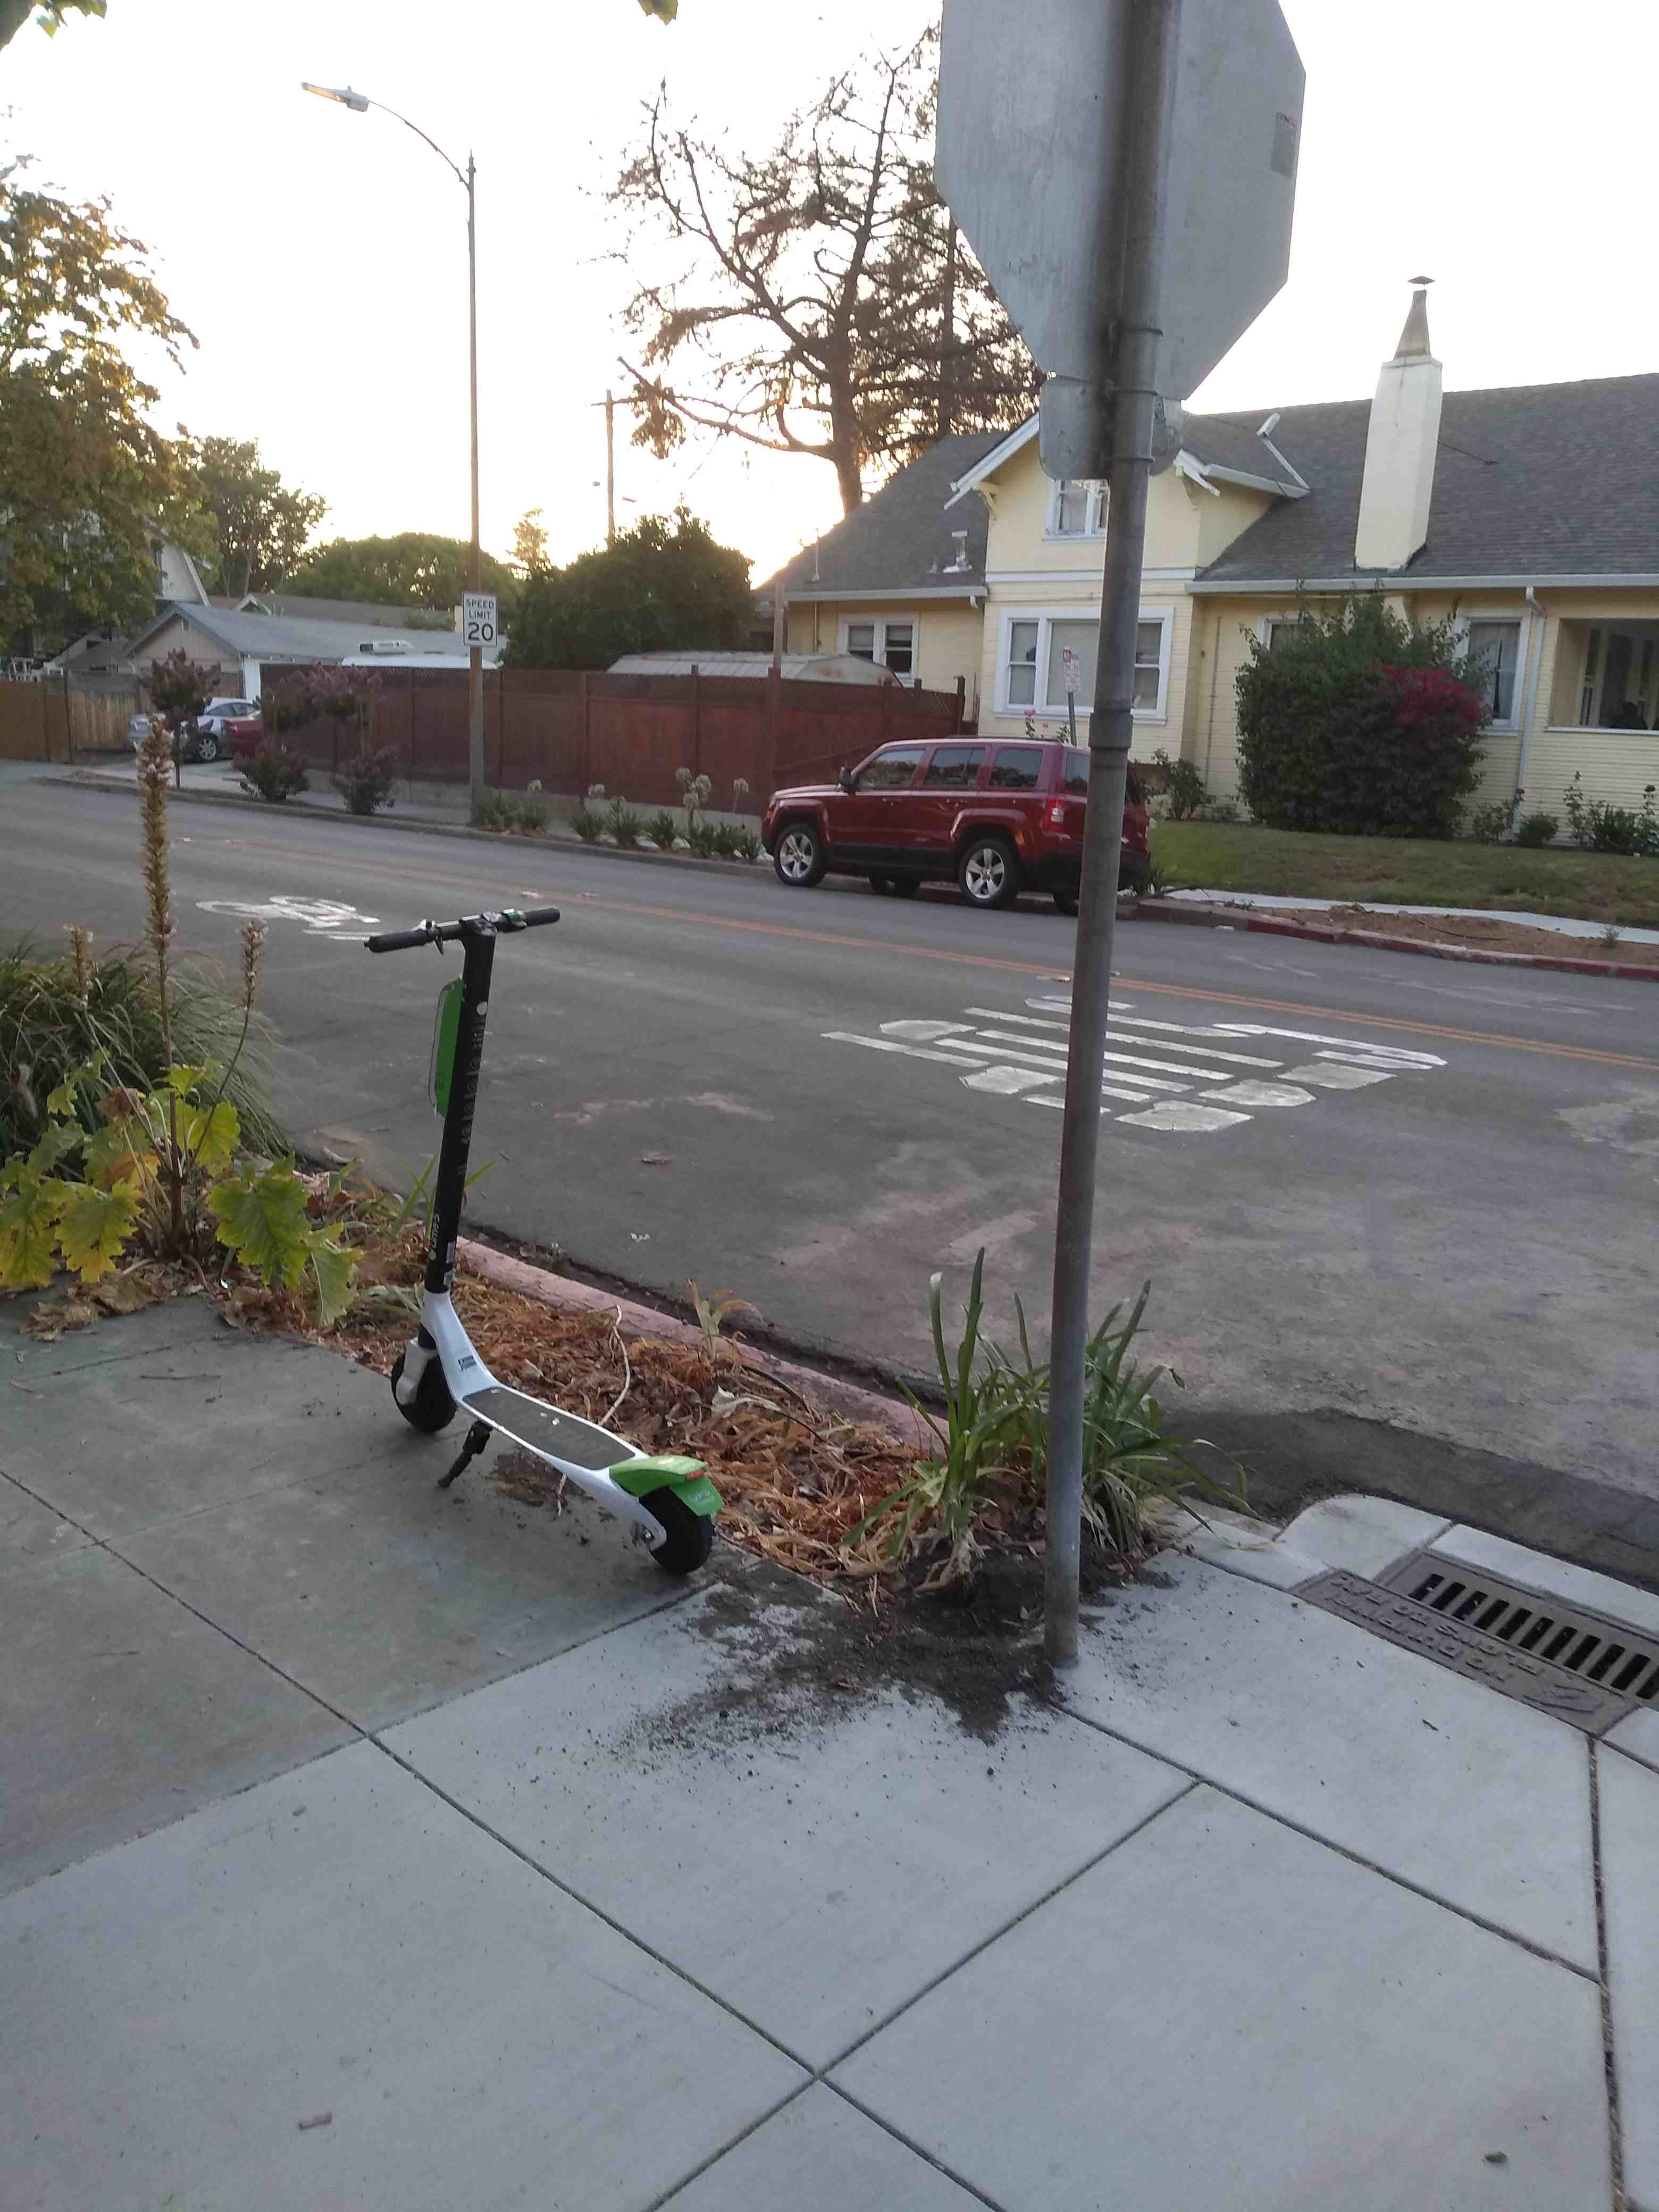scooter: (369, 869, 713, 1615)
